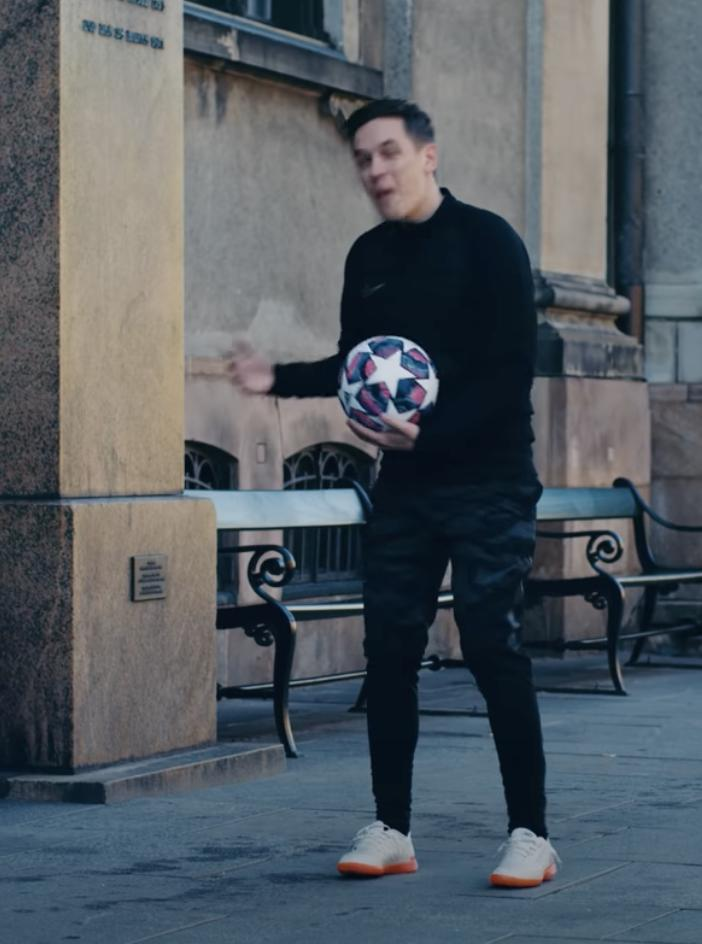ball: (339, 337, 440, 430)
foot: (341, 818, 418, 879), (492, 828, 559, 889)
person: (249, 100, 559, 888)
